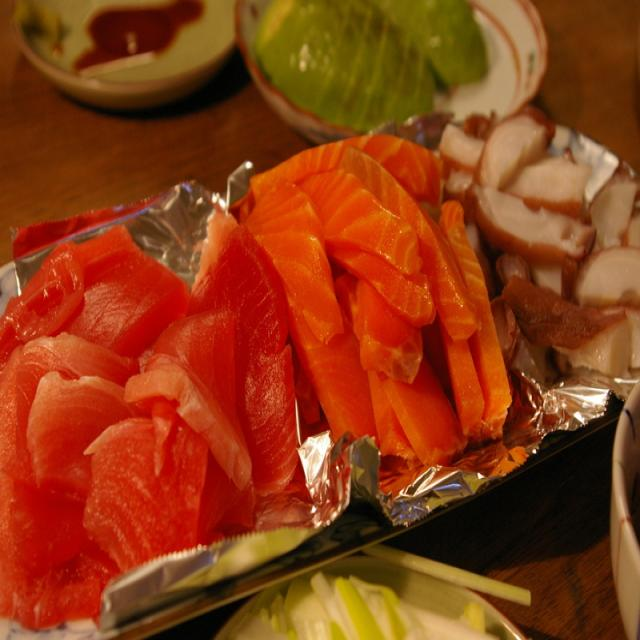刺身生食: (0, 121, 533, 640)
